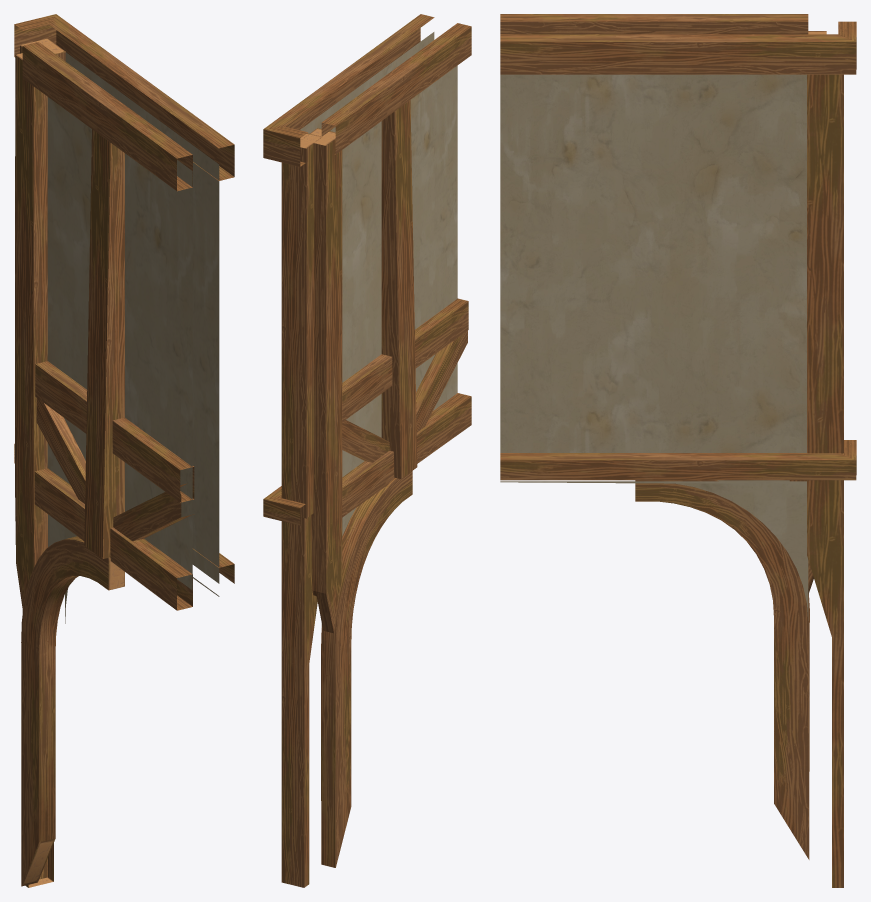
Rendered from Overhang_Side_Plaster_Long_L.gltf.
3 renders of one model, left to right at view 1: azimuth 30°, elevation 25°; view 2: azimuth 150°, elevation 25°; view 3: azimuth 270°, elevation 25°, orthographic. The views are drawn at different scales.
Parts seen in each view (by area): view 1: Overhang_Side_Plaster_Long_L; view 2: Overhang_Side_Plaster_Long_L; view 3: Overhang_Side_Plaster_Long_L.
Boxes of the visible parts, x1,y1,x2,y2 form: Overhang_Side_Plaster_Long_L: (14,14,234,887); Overhang_Side_Plaster_Long_L: (263,14,471,887); Overhang_Side_Plaster_Long_L: (500,14,856,887).
Size of the model in its own units: 0.4793 by 6.12 by 2.31.
2 materials, 2 textured.
